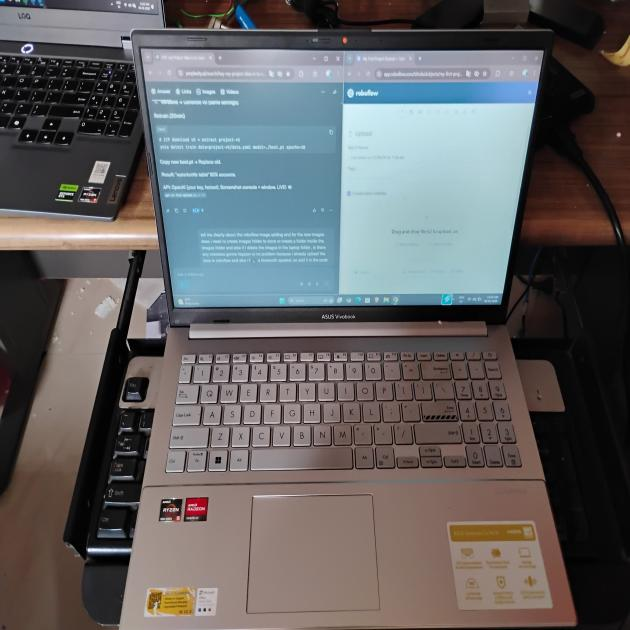there is a person: (0, 0, 491, 563)
